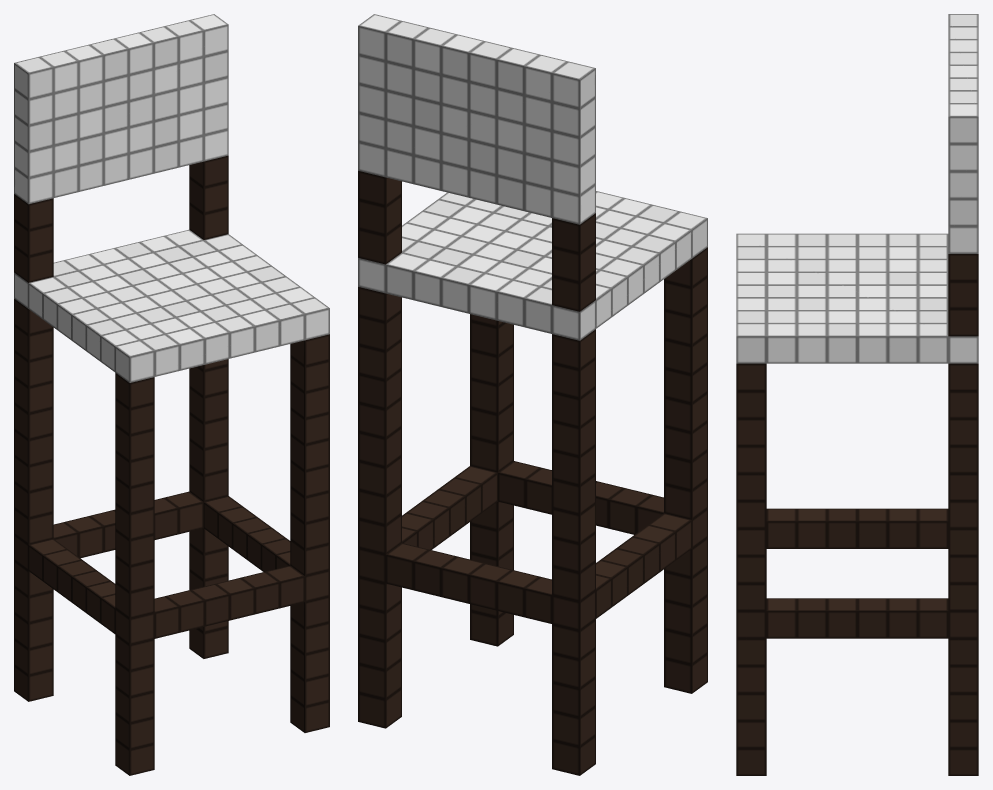
Rendered from bar_stool.glb.
3 renders of one model, left to right at view 1: azimuth 30°, elevation 25°; view 2: azimuth 150°, elevation 25°; view 3: azimuth 270°, elevation 25°, orthographic. The views are drawn at different scales.
Visible parts, largest first — view 1: bar_stool; view 2: bar_stool; view 3: bar_stool.
Part boxes in pixels (<box>): bar_stool: <box>14,14,329,775</box>; bar_stool: <box>358,14,707,775</box>; bar_stool: <box>736,14,978,775</box>.
Size of the model in its own units: 0.4 by 1.2 by 0.4.
2 materials, 2 textured.
